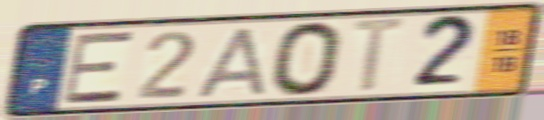2: (407, 12, 482, 95), (135, 28, 198, 100)
A: (193, 25, 269, 100)
E: (61, 29, 136, 107)
O: (268, 19, 346, 99)
T: (347, 15, 413, 97)
